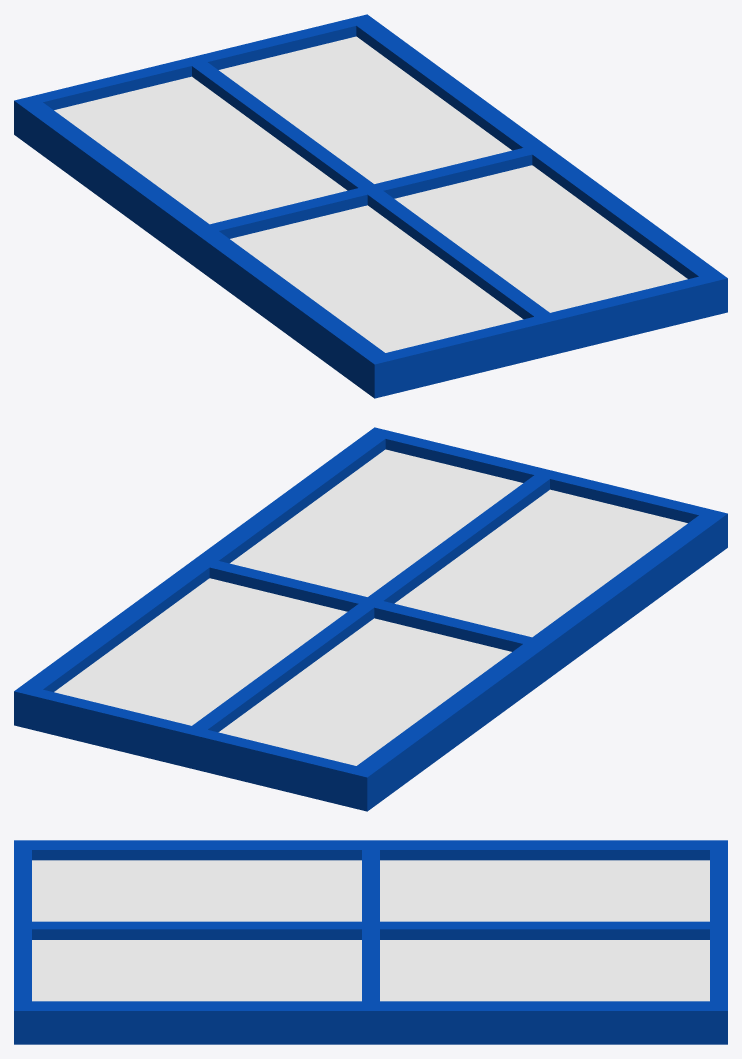
The model's file is Window_01.obj.
3 views of the same model, one above another, from view 1: azimuth 30°, elevation 25°; view 2: azimuth 150°, elevation 25°; view 3: azimuth 270°, elevation 25° (orthographic).
Visible parts, largest first — view 1: polySurface35; view 2: polySurface35; view 3: polySurface35.
Part boxes in pixels (box(x1,y1,x2,y2)): polySurface35: box(14, 14, 727, 398); polySurface35: box(14, 427, 727, 811); polySurface35: box(14, 840, 727, 1044).
Bounding box in the file's own units: 87.82 × 8.1 × 155.
